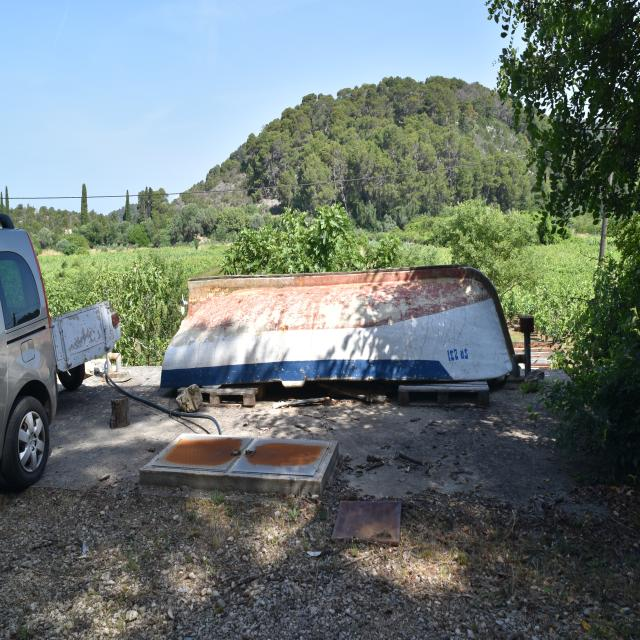entulho: (155, 259, 541, 398), (397, 380, 492, 406)
